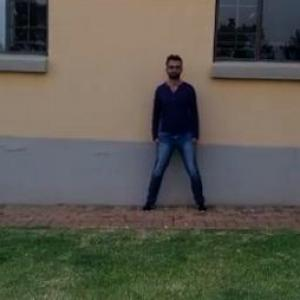follow: (152, 52, 201, 215)
